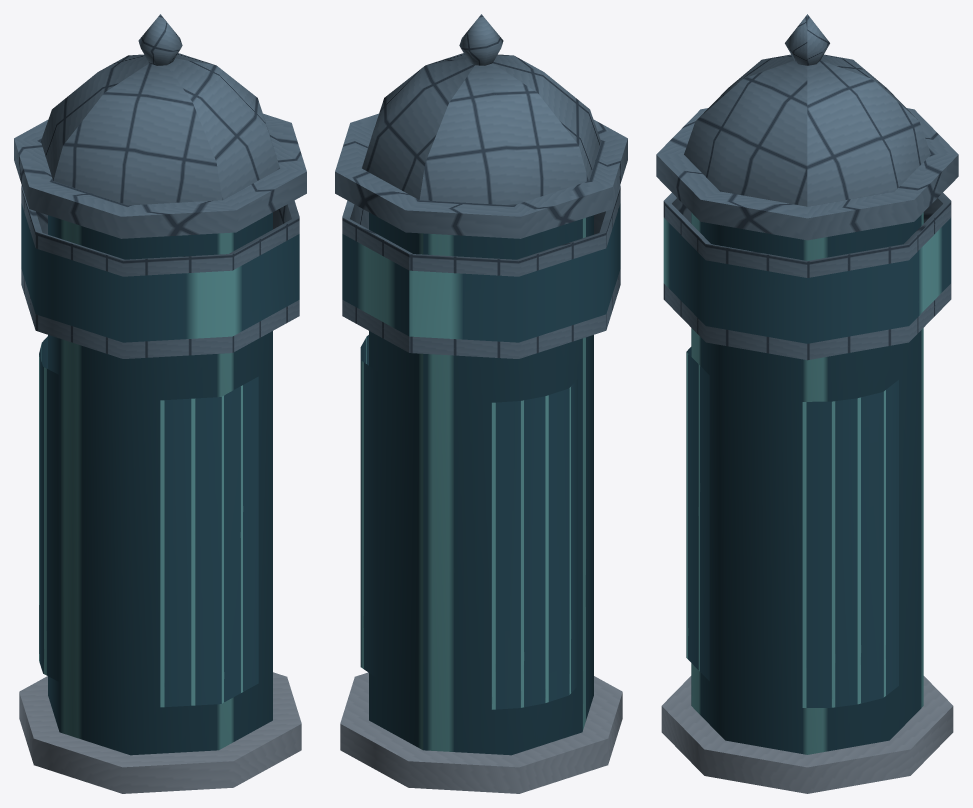
Rendered from kiosk.glb.
3 views of the same model, side by side, from view 1: azimuth 30°, elevation 25°; view 2: azimuth 150°, elevation 25°; view 3: azimuth 270°, elevation 25° (orthographic).
Parts seen in each view (by area): view 1: stk_emptyPanel_a.png__, stkflag_stkVertical_a.png__, stk_greyMetal_a.png__, stk_darkGrayMetal_a.png__, stktex_lasDunasSponsors_a.png__, stktex_generic_concreteA.png__; view 2: stk_emptyPanel_a.png__, stkflag_stkVertical_a.png__, stk_greyMetal_a.png__, stk_darkGrayMetal_a.png__, stktex_lasDunasSponsors_a.png__, stktex_generic_concreteA.png__; view 3: stk_emptyPanel_a.png__, stkflag_stkVertical_a.png__, stk_greyMetal_a.png__, stk_darkGrayMetal_a.png__, stktex_lasDunasSponsors_a.png__, stktex_generic_concreteA.png__.
Part boxes in pixels (x1,y1,x2,y2): stk_emptyPanel_a.png__: [48, 212, 272, 755]; stkflag_stkVertical_a.png__: [39, 336, 258, 707]; stk_greyMetal_a.png__: [41, 53, 279, 205]; stk_darkGrayMetal_a.png__: [14, 14, 306, 358]; stktex_lasDunasSponsors_a.png__: [21, 203, 299, 342]; stktex_generic_concreteA.png__: [19, 672, 301, 793]; stk_emptyPanel_a.png__: [369, 212, 593, 755]; stkflag_stkVertical_a.png__: [360, 335, 577, 709]; stk_greyMetal_a.png__: [362, 53, 600, 205]; stk_darkGrayMetal_a.png__: [335, 14, 627, 358]; stktex_lasDunasSponsors_a.png__: [342, 203, 620, 342]; stktex_generic_concreteA.png__: [340, 672, 622, 793]; stk_emptyPanel_a.png__: [691, 212, 923, 754]; stkflag_stkVertical_a.png__: [686, 347, 898, 707]; stk_greyMetal_a.png__: [684, 54, 930, 206]; stk_darkGrayMetal_a.png__: [656, 14, 958, 360]; stktex_lasDunasSponsors_a.png__: [663, 217, 951, 343]; stktex_generic_concreteA.png__: [661, 676, 953, 793].
Size of the model in its own units: 3.73 by 9.78 by 3.73.
Materials: 6 (6 with a texture image).
